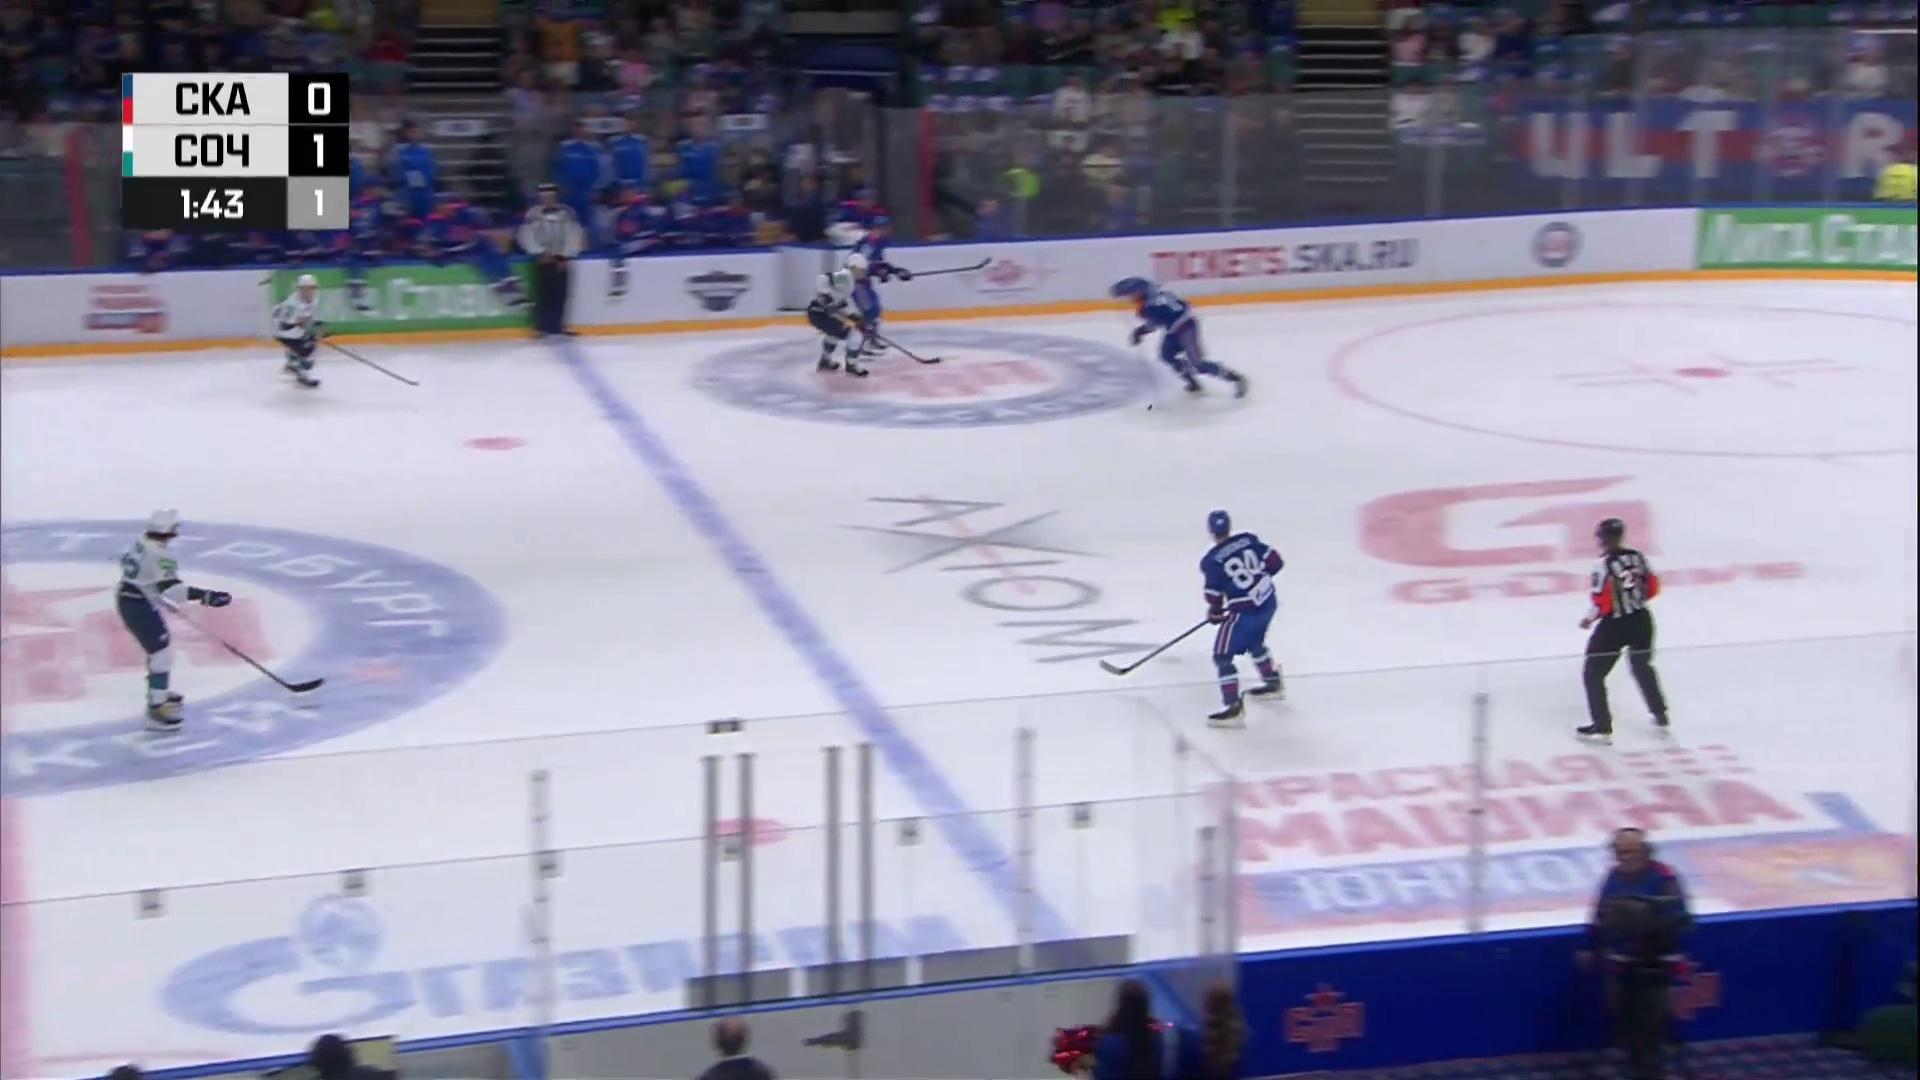ball: (1146, 404, 1153, 411)
